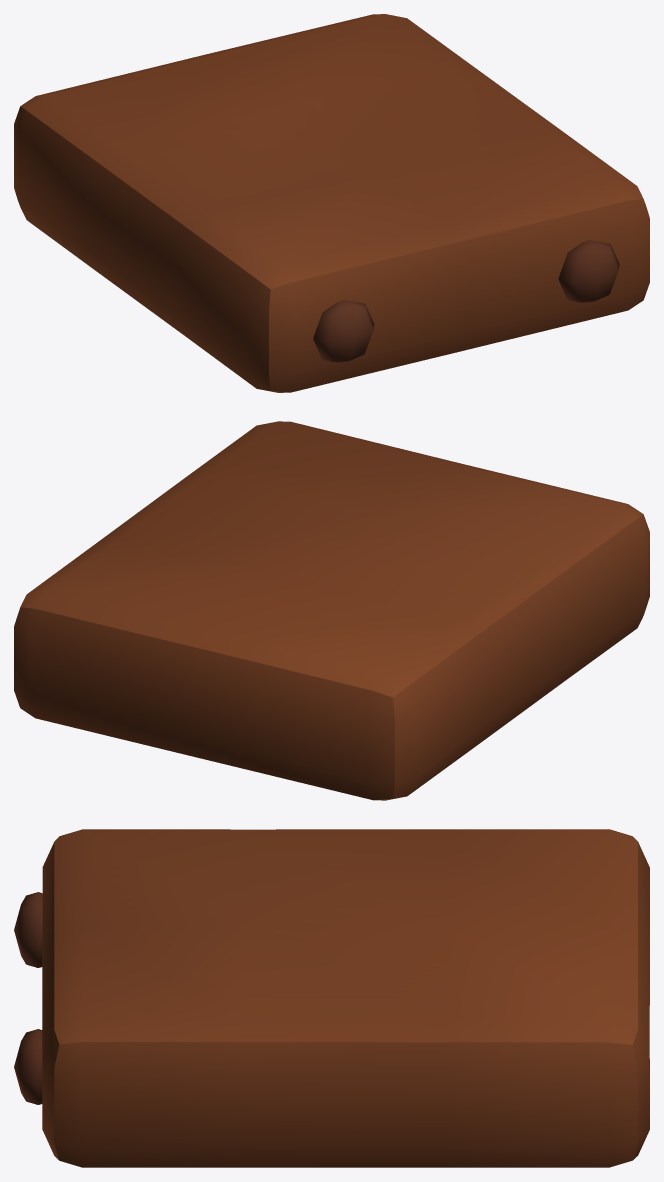
Rendered from mire_barrel_hoop.glb.
3 views of the same model, one above another, from view 1: azimuth 30°, elevation 25°; view 2: azimuth 150°, elevation 25°; view 3: azimuth 270°, elevation 25° (orthographic). The views are drawn at different scales.
Visible parts, largest first — view 1: mire_barrel_hoop; view 2: mire_barrel_hoop; view 3: mire_barrel_hoop.
Part boxes in pixels (bbox=[...]): mire_barrel_hoop: bbox=[14, 14, 649, 392]; mire_barrel_hoop: bbox=[14, 421, 649, 800]; mire_barrel_hoop: bbox=[14, 829, 649, 1167].
Bounding box in the file's own units: 2.6 × 0.8041 × 3.14.
